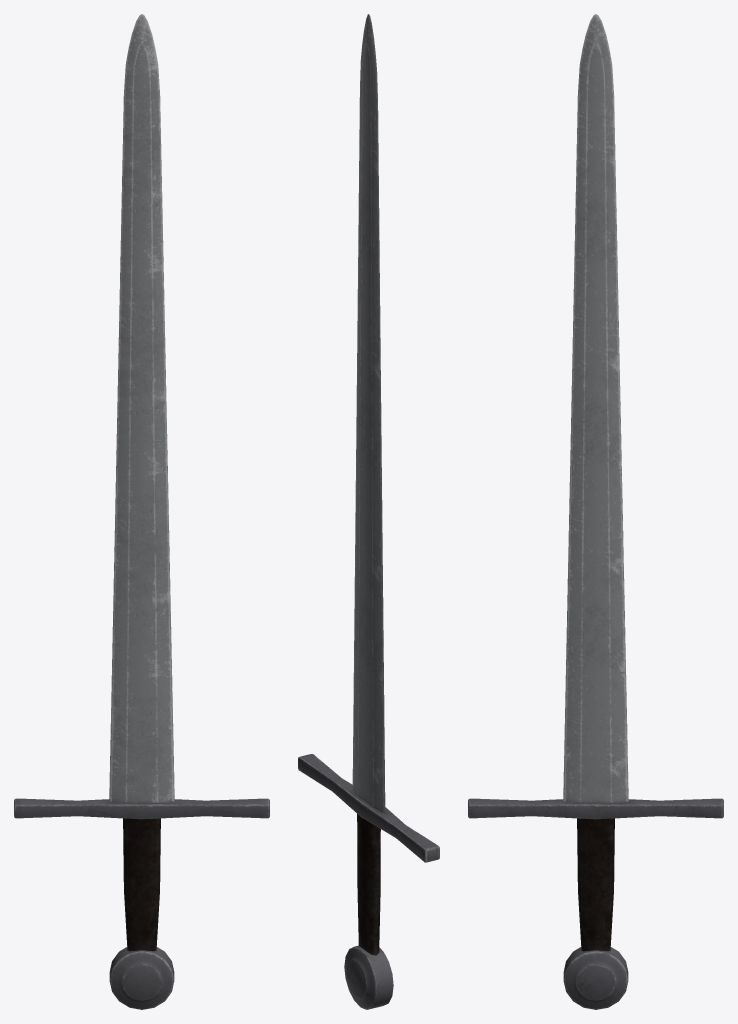
The model's file is SteelSword_01.FBX.
The picture shows the model from 3 angles, left to right: view 1: azimuth 90°, elevation 25°; view 2: azimuth 210°, elevation 25°; view 3: azimuth 270°, elevation 25°; orthographic projection.
Parts seen in each view (by area): view 1: Sword_01; view 2: Sword_01; view 3: Sword_01.
Boxes of the visible parts, <box> form: Sword_01: <box>14,14,269,1009</box>; Sword_01: <box>298,14,439,1009</box>; Sword_01: <box>468,14,723,1009</box>.
Size of the model in its own units: 2.97 by 113 by 26.34.
